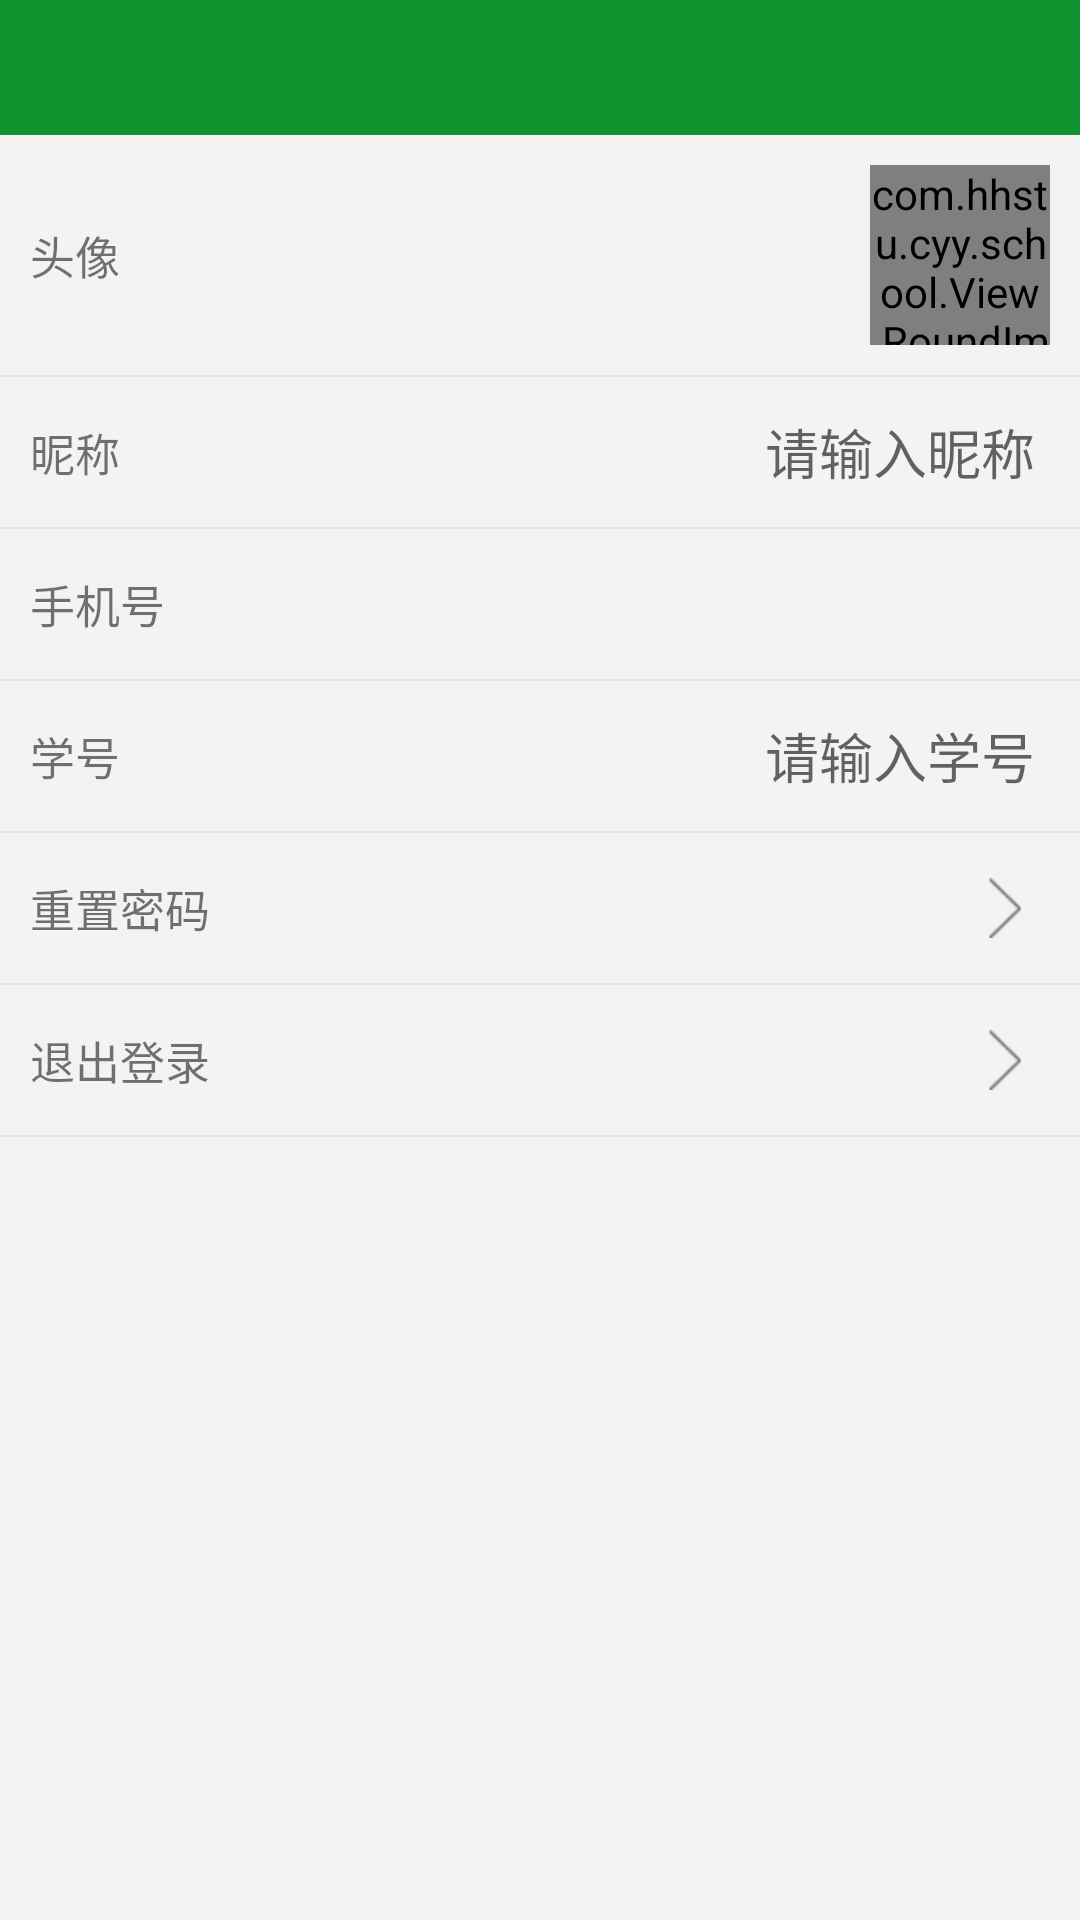

Screen size 1080 × 1920. Icon name, then its center in pixels as point (x, y):
right: point (1005, 908), point (1005, 1060)
